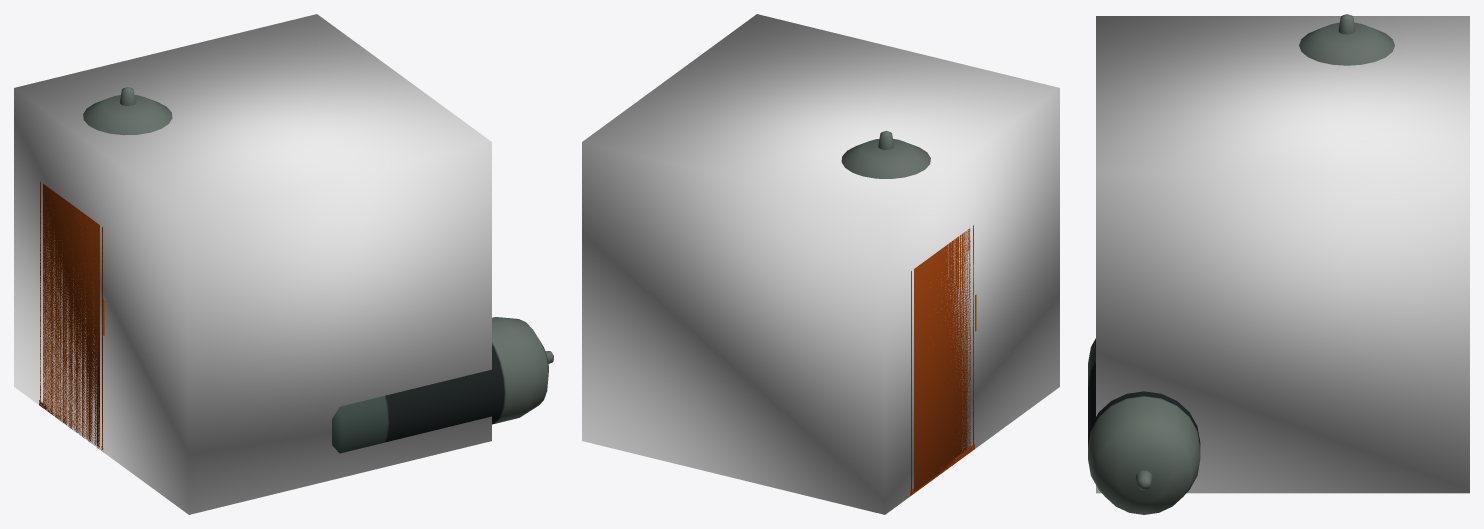
The model's file is valvulas.glb.
3 renders of one model, left to right at view 1: azimuth 30°, elevation 25°; view 2: azimuth 150°, elevation 25°; view 3: azimuth 270°, elevation 25°, orthographic. The views are drawn at different scales.
Visible parts, largest first — view 1: valvulas-colcaja, valvulas, caja; view 2: valvulas-colcaja, caja, valvulas; view 3: valvulas-colcaja, valvulas.
Part boxes in pixels (left/top/right/bottom): valvulas-colcaja: left=14, top=14, right=491, bottom=514; valvulas: left=83, top=87, right=553, bottom=453; caja: left=39, top=181, right=104, bottom=451; valvulas-colcaja: left=582, top=14, right=1059, bottom=514; caja: left=910, top=225, right=976, bottom=496; valvulas: left=841, top=130, right=930, bottom=178; valvulas-colcaja: left=1096, top=16, right=1469, bottom=493; valvulas: left=1088, top=14, right=1394, bottom=514.
Size of the model in its own units: 0.0896 by 0.0725 by 0.0715.
